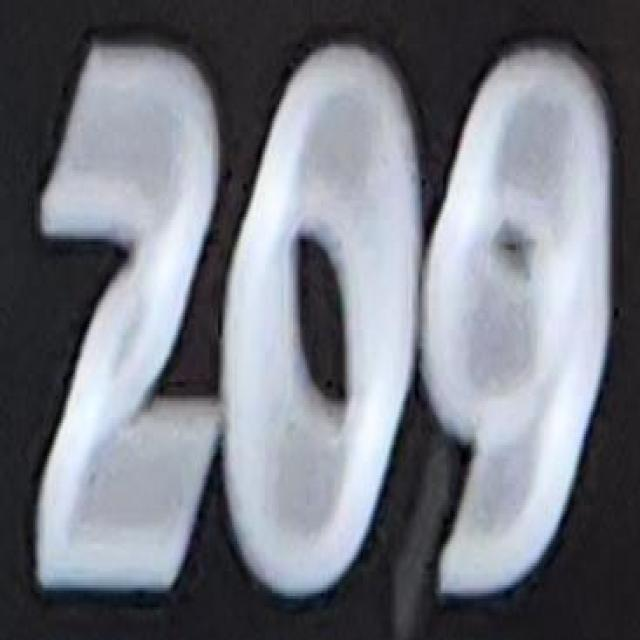character: (223, 35, 427, 603), (426, 37, 622, 605), (34, 36, 230, 589)
